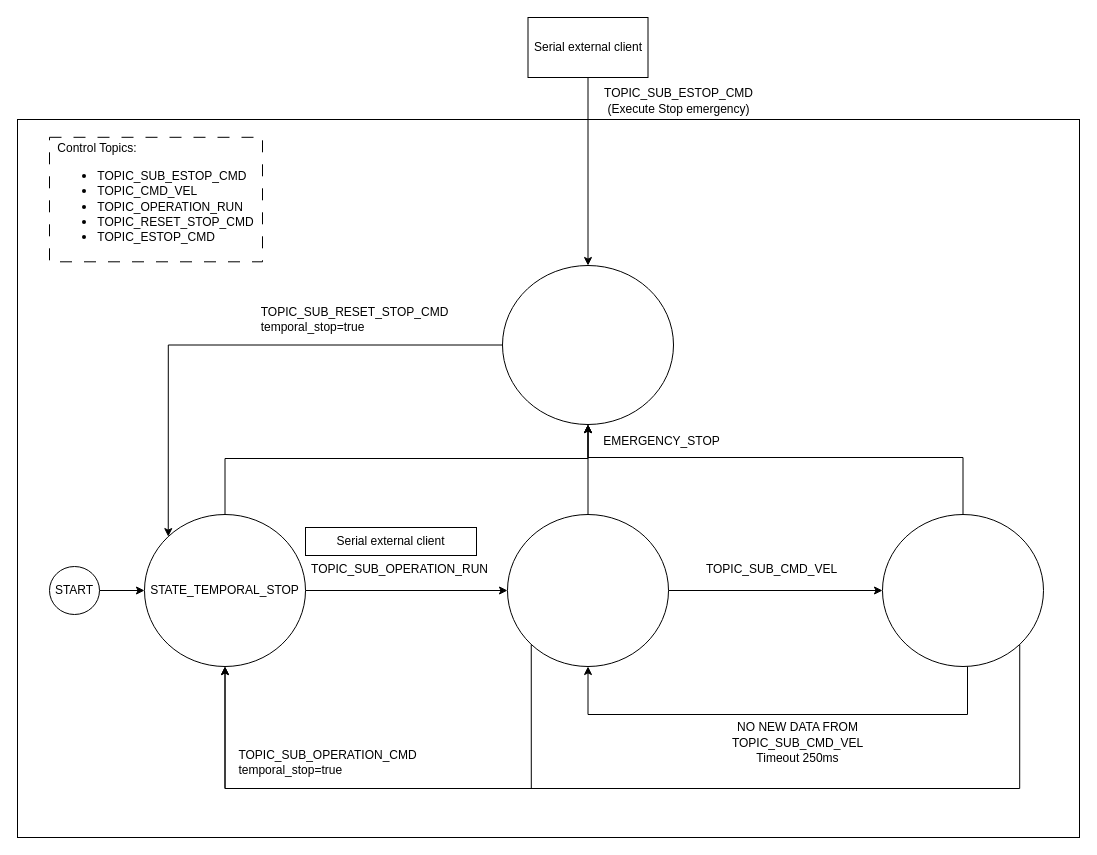
Some shapes in this 1097 by 855 pixel diagram are drawn without their labels. Each missing label, with the box of its shape:
STATE_IDLE: (506, 514, 668, 666)
STATE_MOVING: (882, 514, 1044, 666)
STATE_STOP_ EMERGENCY: (502, 264, 674, 424)
